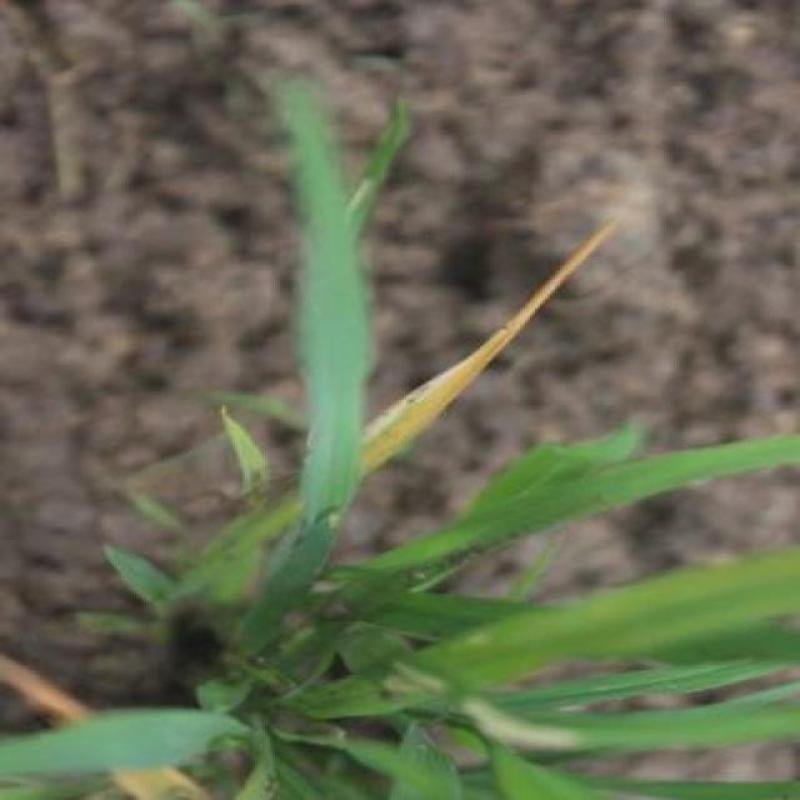Rice Tungro: (390, 202, 616, 422)
